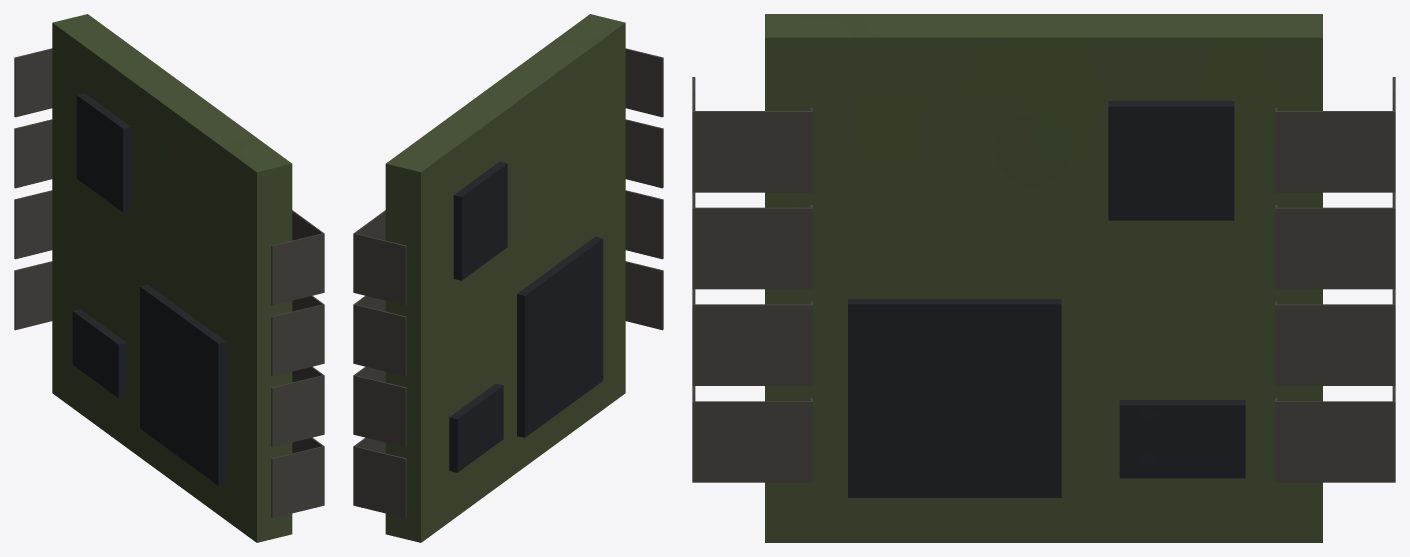
Rendered from chip.fbx.
3 renders of one model, left to right at view 1: azimuth 30°, elevation 25°; view 2: azimuth 150°, elevation 25°; view 3: azimuth 270°, elevation 25°, orthographic. The views are drawn at different scales.
Parts seen in each view (by area): view 1: Cube, Plane, Plane.002, Plane.001, Plane.003; view 2: Cube, Plane, Plane.002, Plane.001, Plane.003; view 3: Cube, Plane, Plane.002, Plane.001, Plane.003.
Part boxes in pixels (x1=…): Cube: x1=52, y1=14, x2=292, y2=542; Plane: x1=14, y1=48, x2=324, y2=518; Plane.002: x1=140, y1=284, x2=226, y2=485; Plane.001: x1=76, y1=93, x2=130, y2=212; Plane.003: x1=72, y1=309, x2=126, y2=398; Cube: x1=385, y1=14, x2=625, y2=542; Plane: x1=353, y1=48, x2=663, y2=518; Plane.002: x1=517, y1=236, x2=603, y2=437; Plane.001: x1=453, y1=161, x2=507, y2=280; Plane.003: x1=449, y1=383, x2=503, y2=472; Cube: x1=765, y1=14, x2=1322, y2=542; Plane: x1=692, y1=77, x2=1395, y2=482; Plane.002: x1=848, y1=299, x2=1061, y2=497; Plane.001: x1=1108, y1=101, x2=1234, y2=220; Plane.003: x1=1119, y1=400, x2=1245, y2=478.
Bounding box in the file's own units: 15.48 × 100 × 126.
